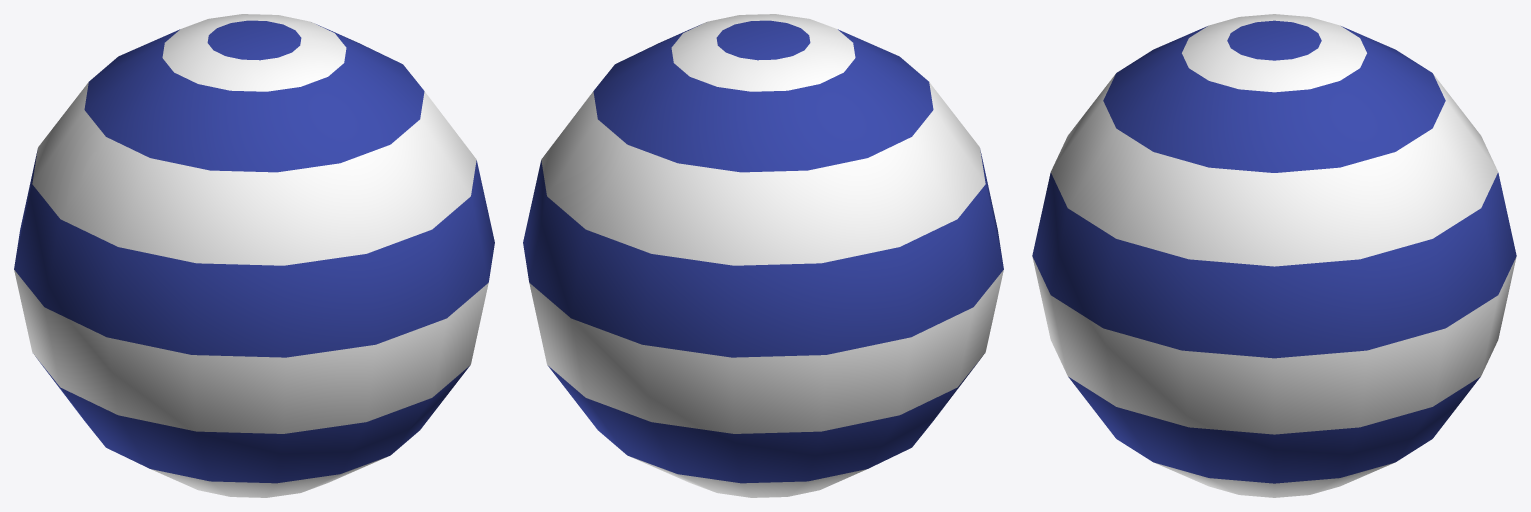
The model's file is Ball_3.fbx.
3 views of the same model, side by side, from view 1: azimuth 30°, elevation 25°; view 2: azimuth 150°, elevation 25°; view 3: azimuth 270°, elevation 25° (orthographic).
Visible parts, largest first — view 1: Ball_3; view 2: Ball_3; view 3: Ball_3.
Part boxes in pixels (<box>): Ball_3: <box>14,14,494,497</box>; Ball_3: <box>523,14,1003,497</box>; Ball_3: <box>1032,14,1516,497</box>.
Size of the model in its own units: 23.86 by 23.4 by 23.86.
Materials: 1 (1 with a texture image).
